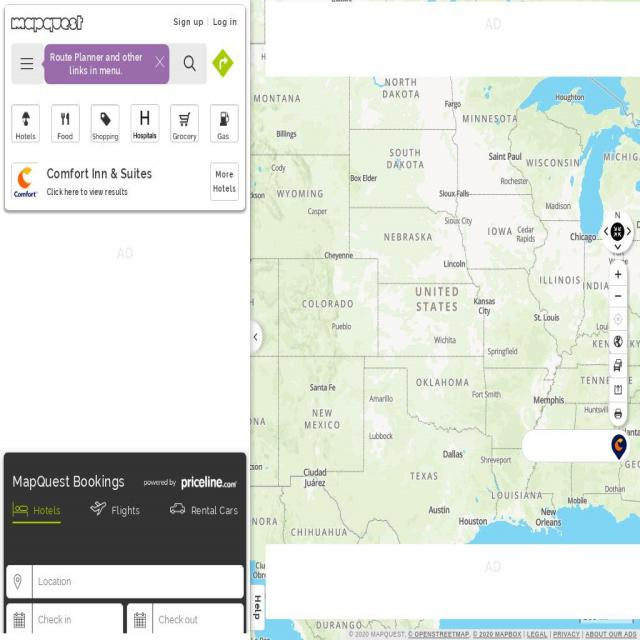filter: (8, 96, 246, 152), (10, 493, 242, 532)
login-option: (210, 12, 239, 35)
map: (248, 75, 638, 640)
options: (15, 48, 45, 78)
search: (6, 562, 248, 638), (172, 45, 206, 82)
sign-up-option: (170, 10, 208, 33)
